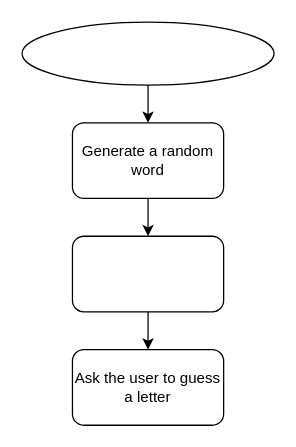
The diagram is 296 pixels wide and 447 high, and some of its shapes have lost their labels. The shapes that lost their labels are listed below. From the top down, each one's box as (x1, y1, x2, y2) in pixels, then its label:
(21, 21, 274, 85): Hangman
(71, 235, 224, 312): Show blank spaces as per random word
